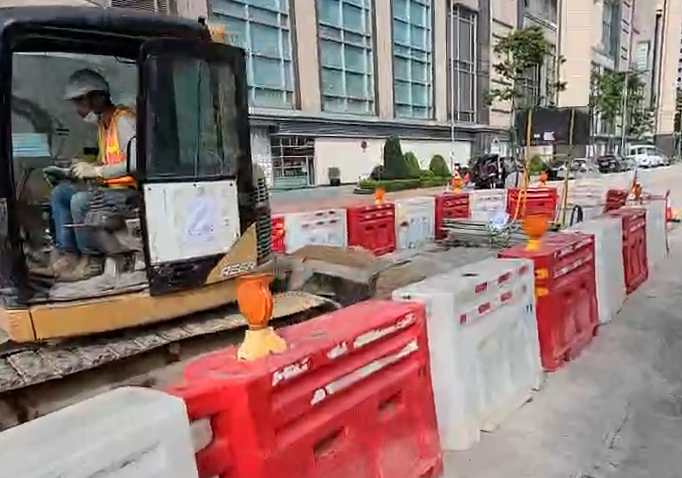Hard Hat: (62, 70, 113, 127)
Person: (41, 69, 136, 284)
Vest: (92, 103, 137, 188)
